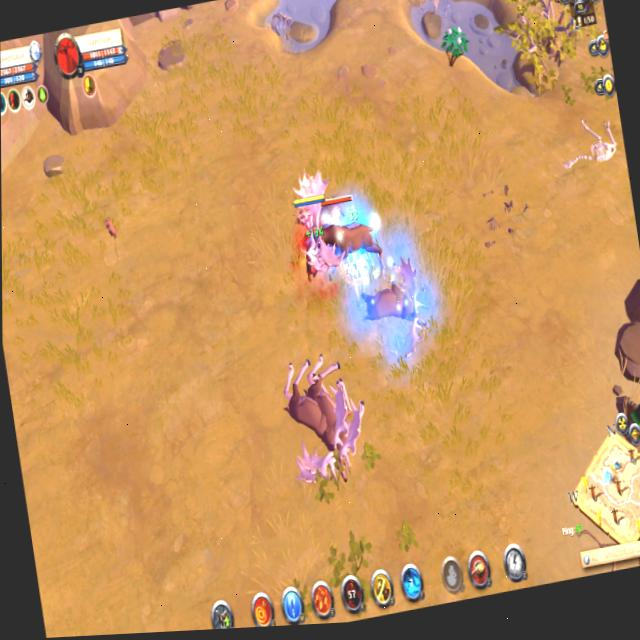hide: (439, 21, 470, 69)
mob: (271, 341, 379, 500), (350, 254, 437, 368)
ore: (296, 164, 392, 295)
